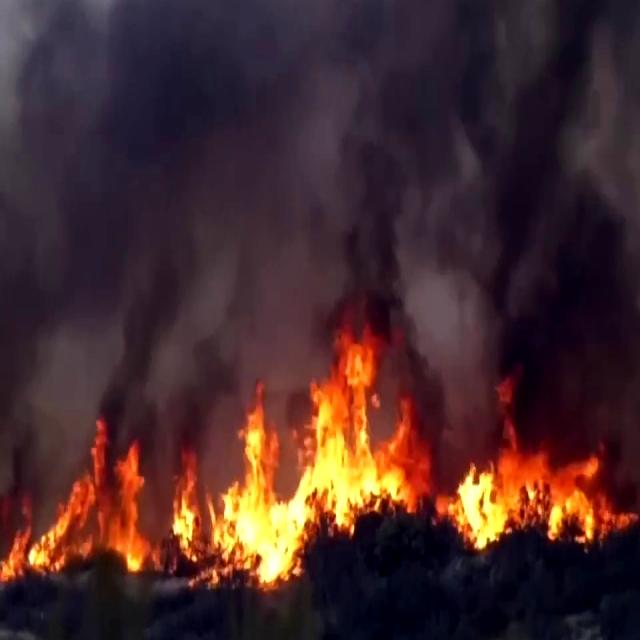fire: (177, 383, 298, 593), (309, 336, 430, 536), (14, 418, 154, 582), (450, 407, 612, 548)
smoke: (0, 0, 640, 263)
